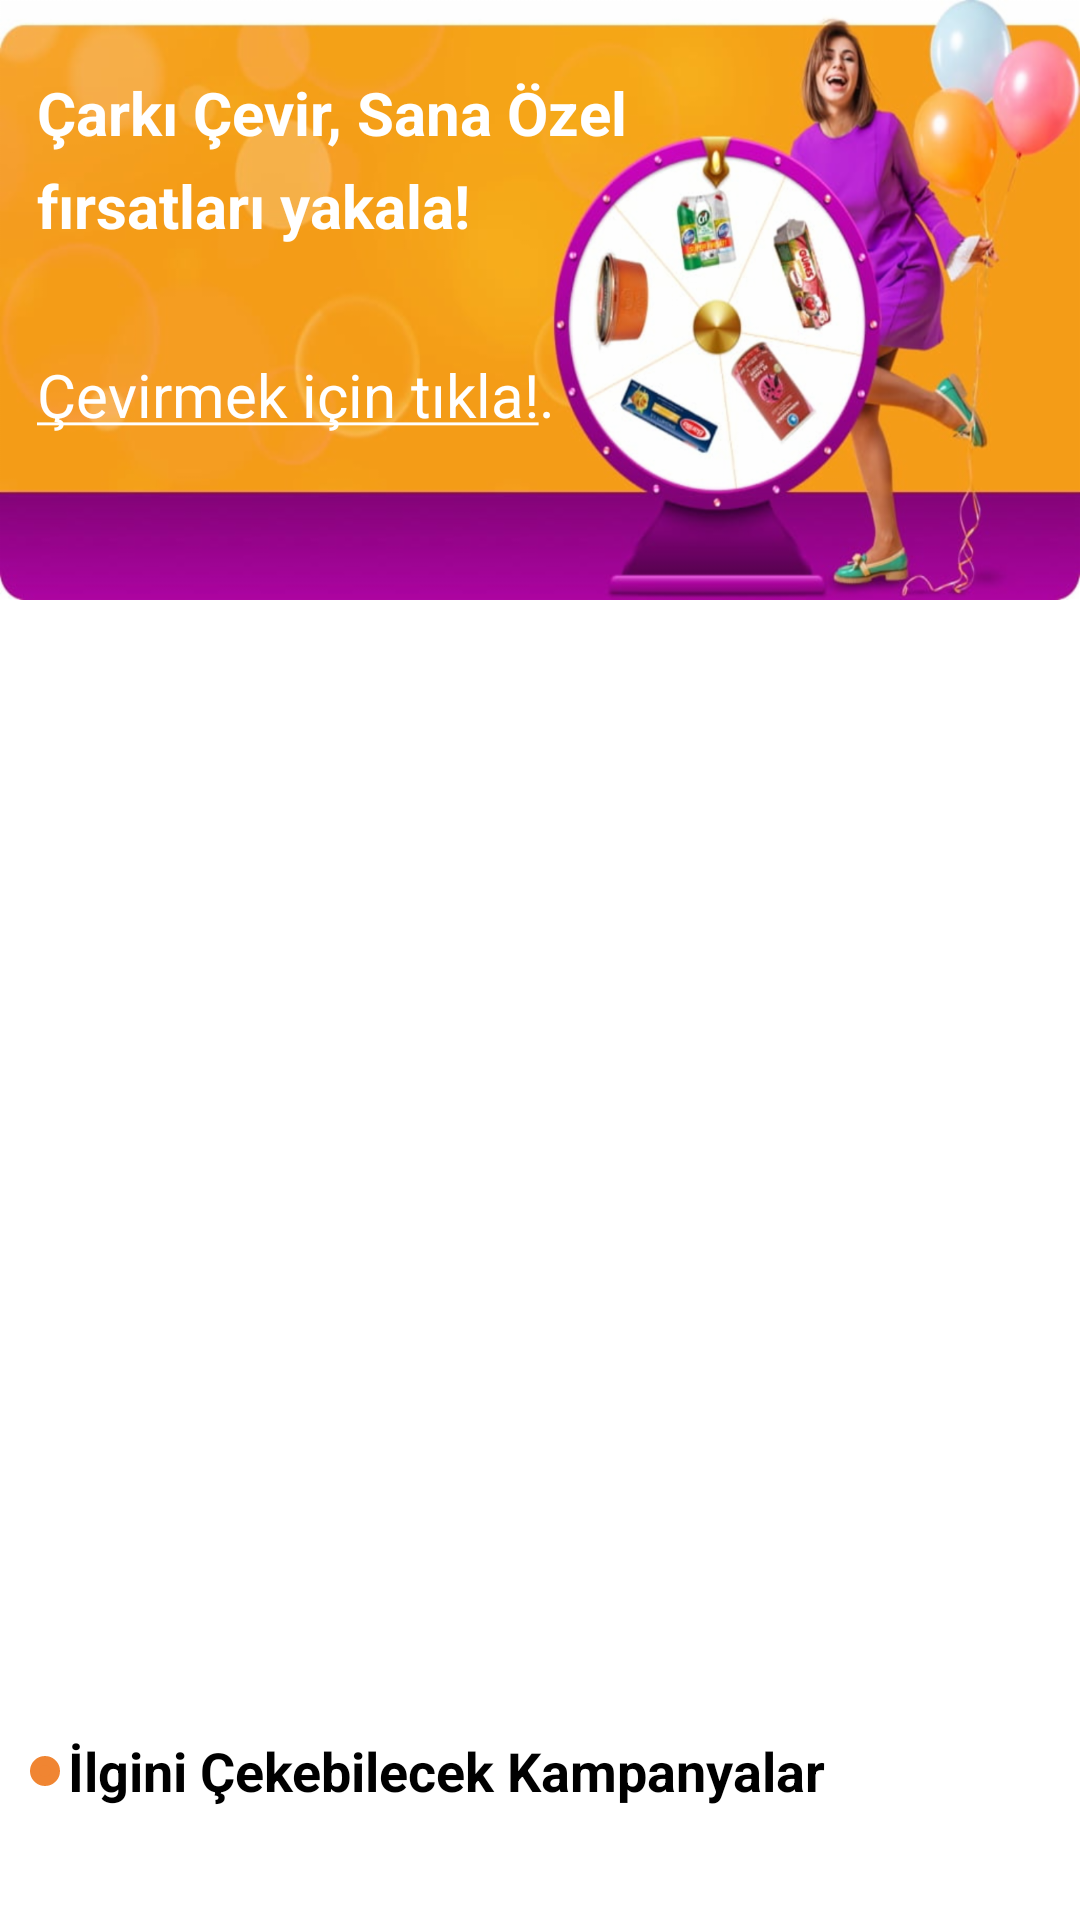

Where icons sit on this 1080×1920 app screen, as Rect(x1, y1, x2, y2):
nokta: Rect(30, 1756, 60, 1786)
